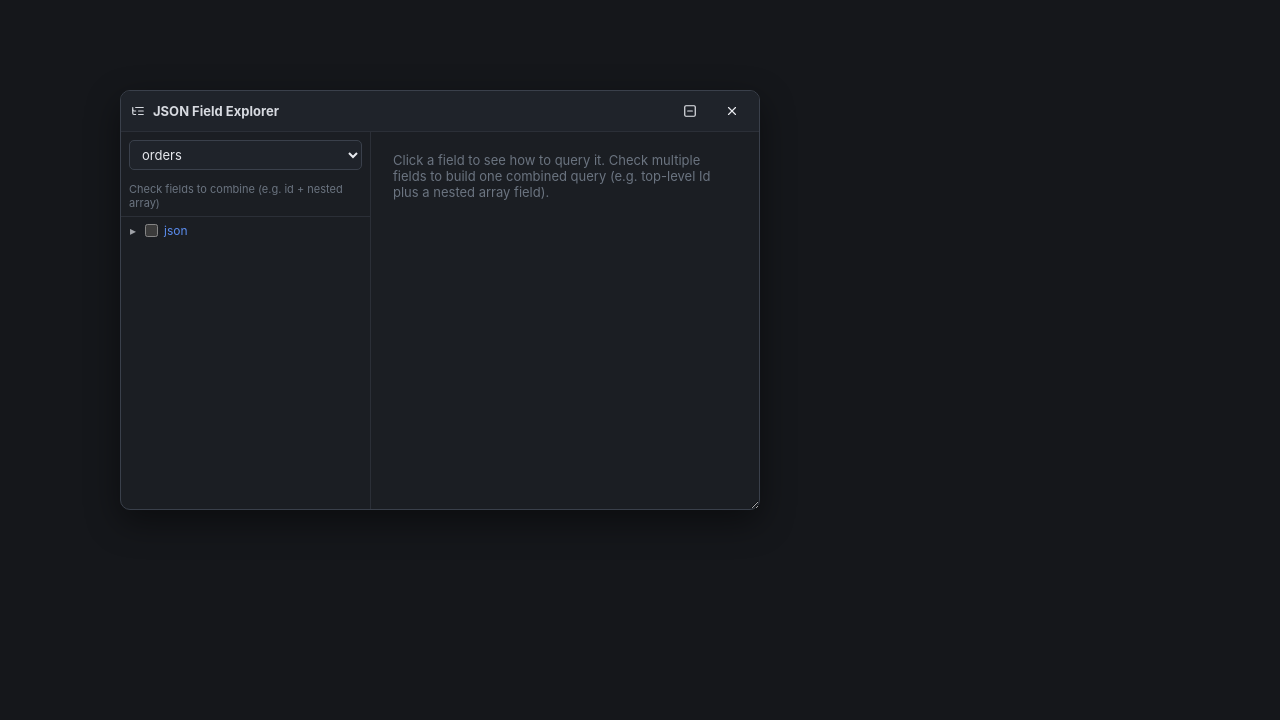
FieldExplorer shred steering › expands and collapses nested fields via the caret without selecting the row
Expected: the text "json" is shown, [164,223,188,238]
Expected: the text "legs" is not shown
Click the text with test id "fx-caret-json" at point(133, 230), box [130,223,136,238]
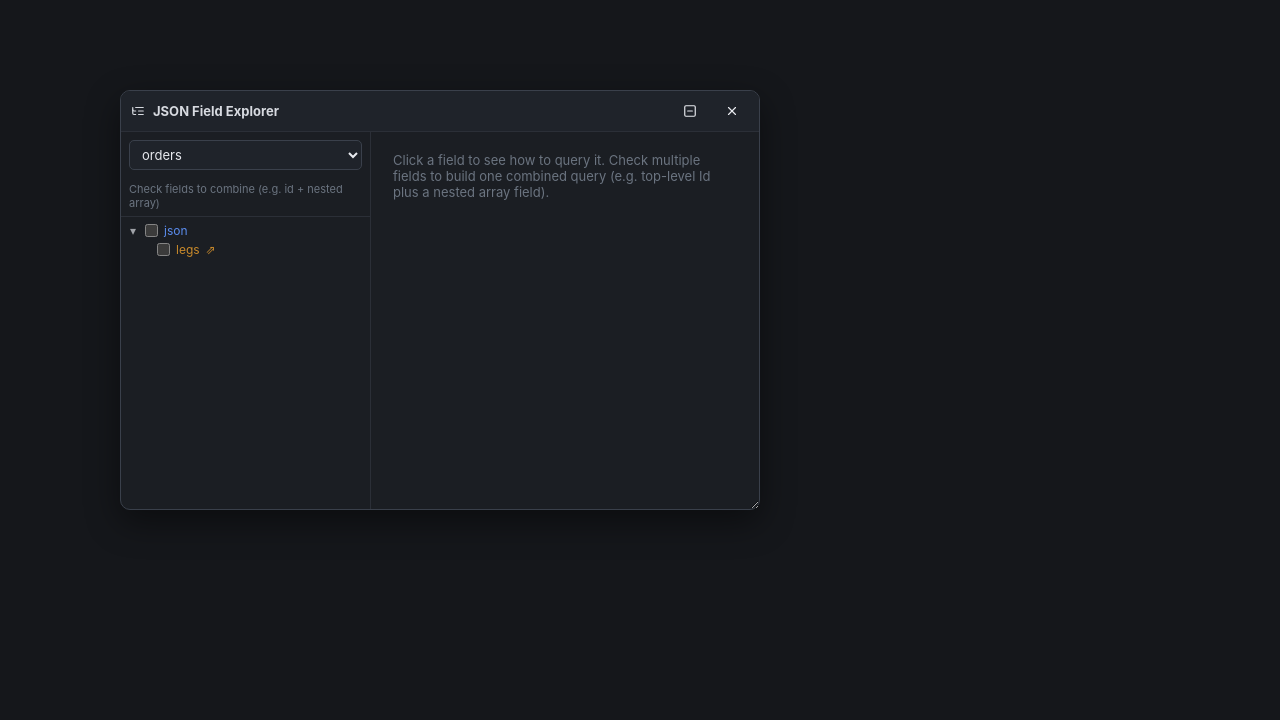
Expected: the element with test id "fx-sel-bar" shows "Check fields to combine", [129,182,343,210]
Expected: the text with test id "fx-caret-json" reads "▾"
Expected: the text "legs" is shown, [176,242,200,257]
Click the text with test id "fx-caret-json" at point(133, 230), box [130,223,136,238]
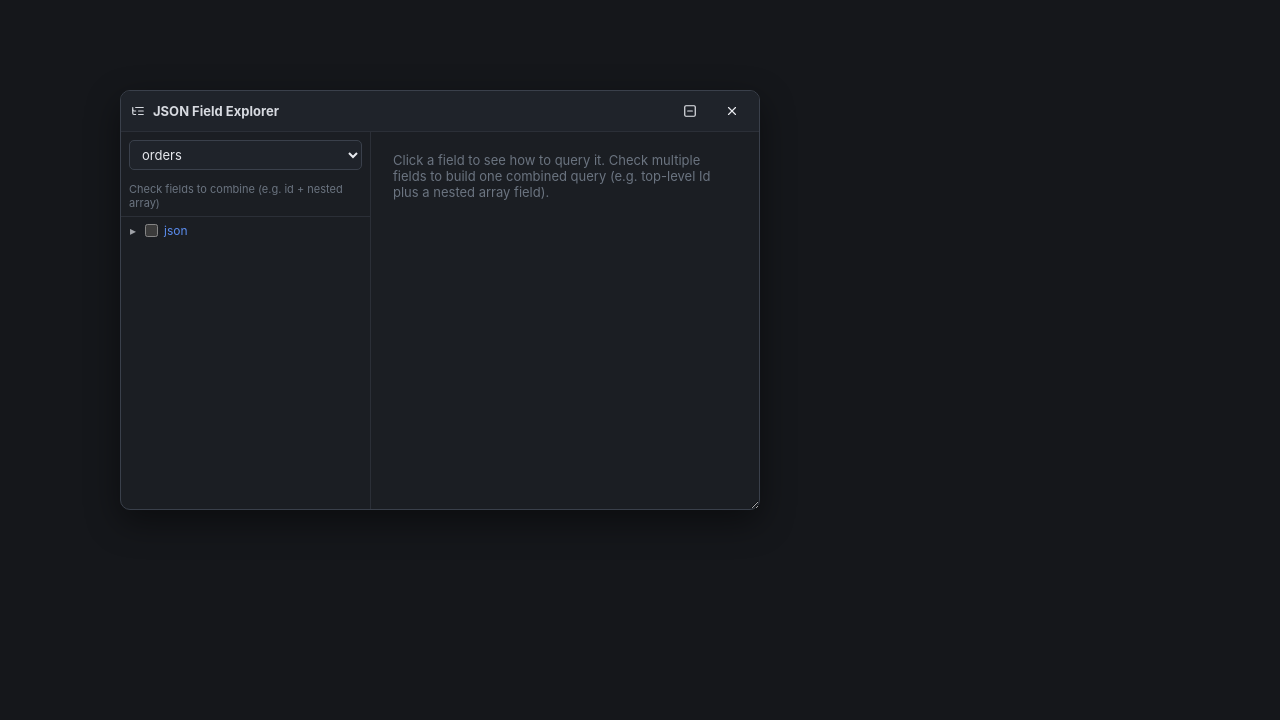
Expected: the text with test id "fx-caret-json" reads "▸", [130,223,136,238]
Expected: the text "legs" is gone
